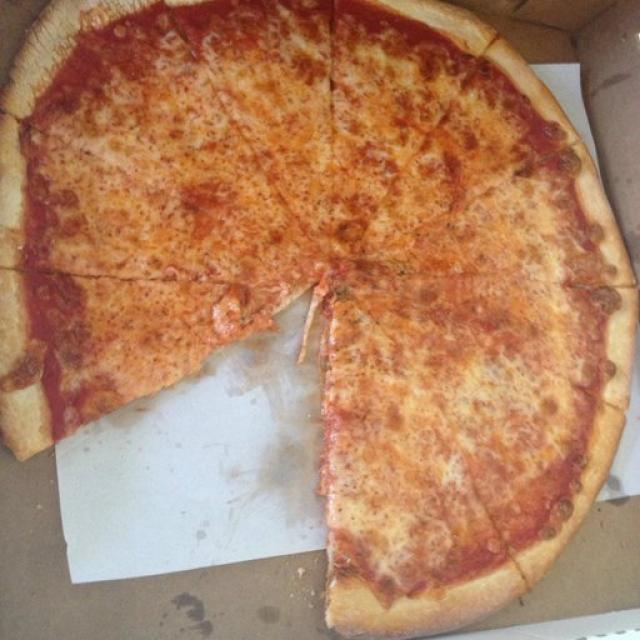Pizza: (0, 0, 635, 640)
